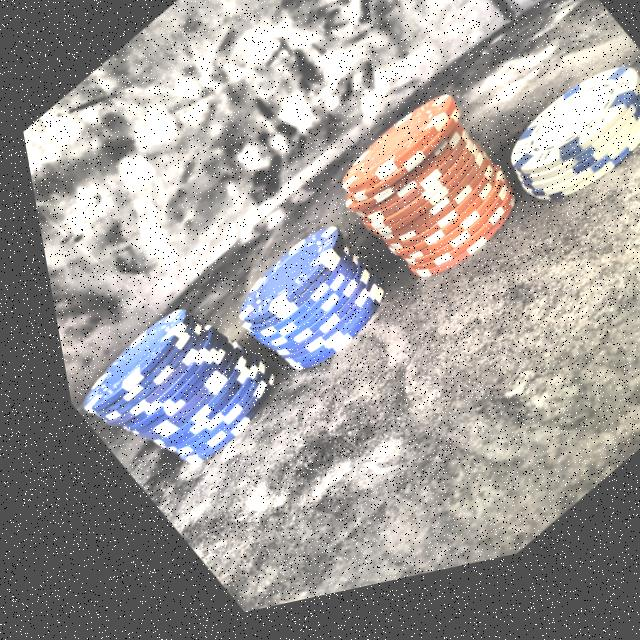Chip: (302, 65, 547, 333), (50, 275, 278, 514), (459, 55, 640, 264), (206, 217, 389, 400)
